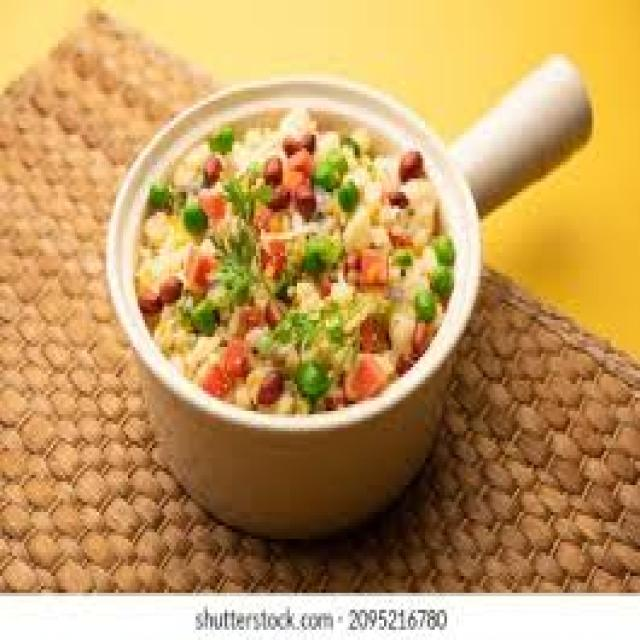UPMA: (133, 108, 449, 411)
